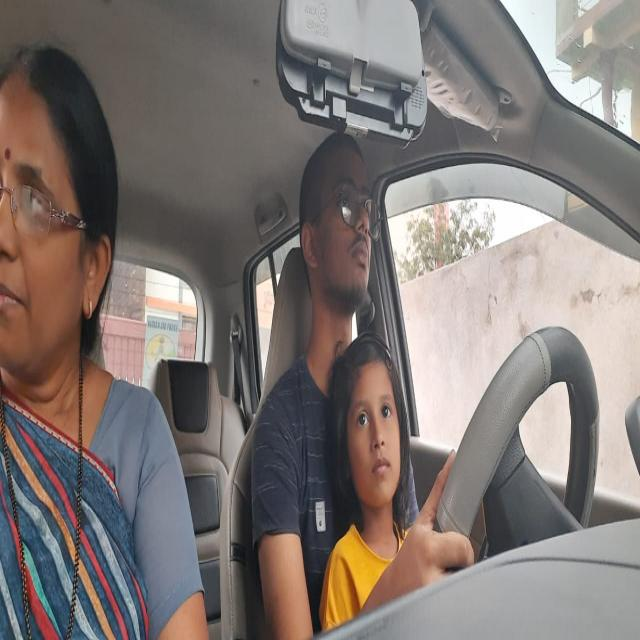child: (328, 337, 413, 537)
person: (1, 42, 133, 442), (299, 124, 383, 314)
